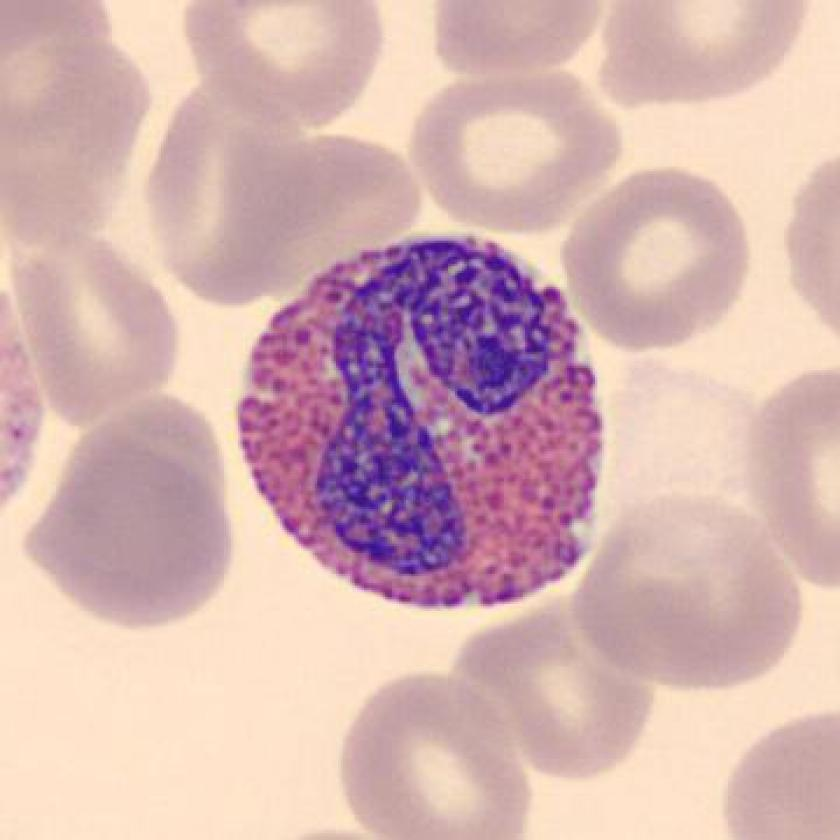eosinophil: (218, 219, 617, 631)
